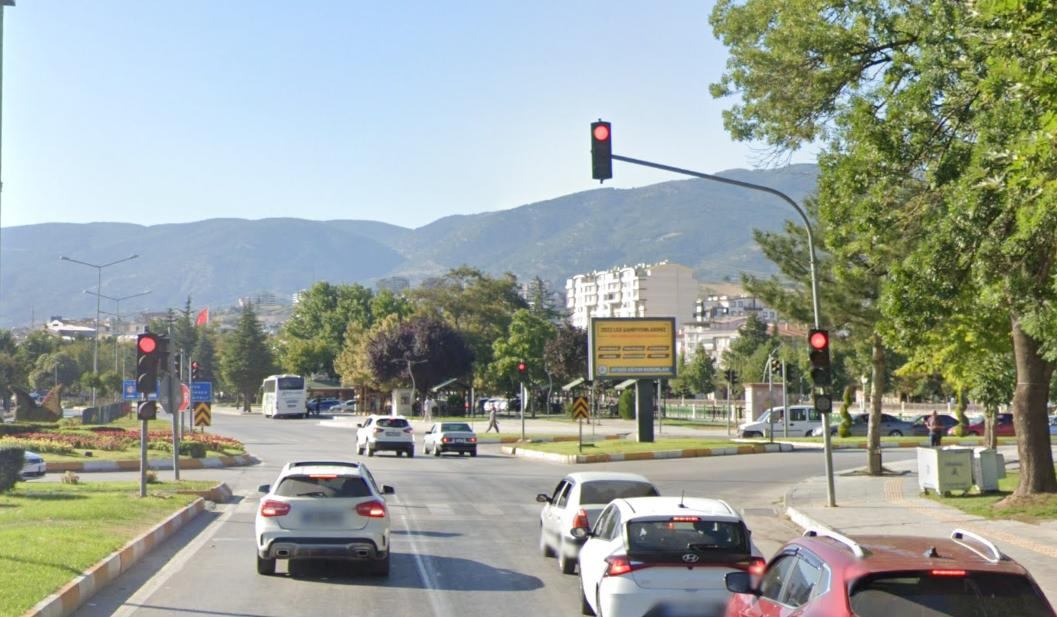redlight: (807, 327, 831, 388), (589, 118, 613, 178), (136, 335, 157, 394), (189, 360, 200, 382), (518, 360, 527, 383)
